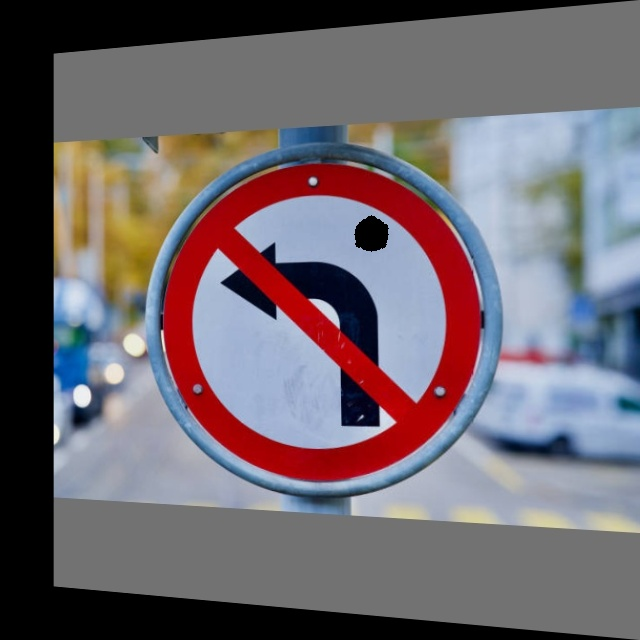Left_Turn_Prohibited: (147, 133, 502, 500)
